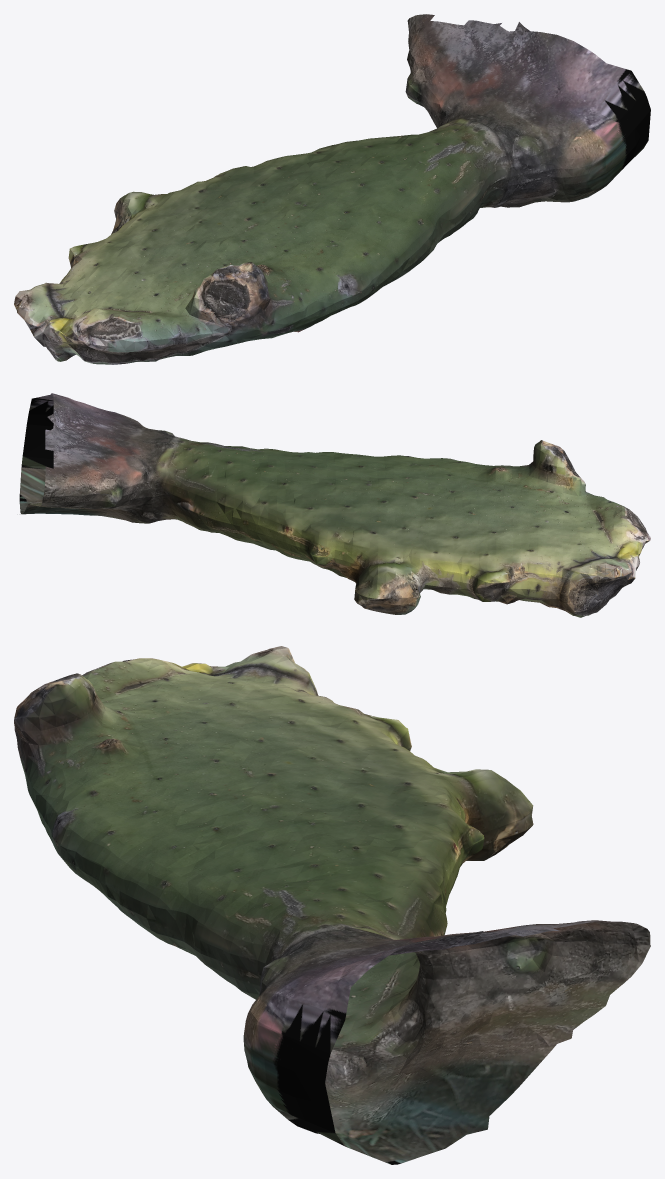
Rendered from nopal.fbx.
3 views of the same model, one above another, from view 1: azimuth 30°, elevation 25°; view 2: azimuth 150°, elevation 25°; view 3: azimuth 270°, elevation 25° (orthographic). The views are drawn at different scales.
Parts seen in each view (by area): view 1: model; view 2: model; view 3: model.
Part boxes in pixels (left/top/right/bottom): model: left=14, top=14, right=650, bottom=364; model: left=19, top=393, right=650, bottom=617; model: left=14, top=646, right=650, bottom=1164.
Size of the model in its own units: 40.06 by 8.67 by 23.14.
